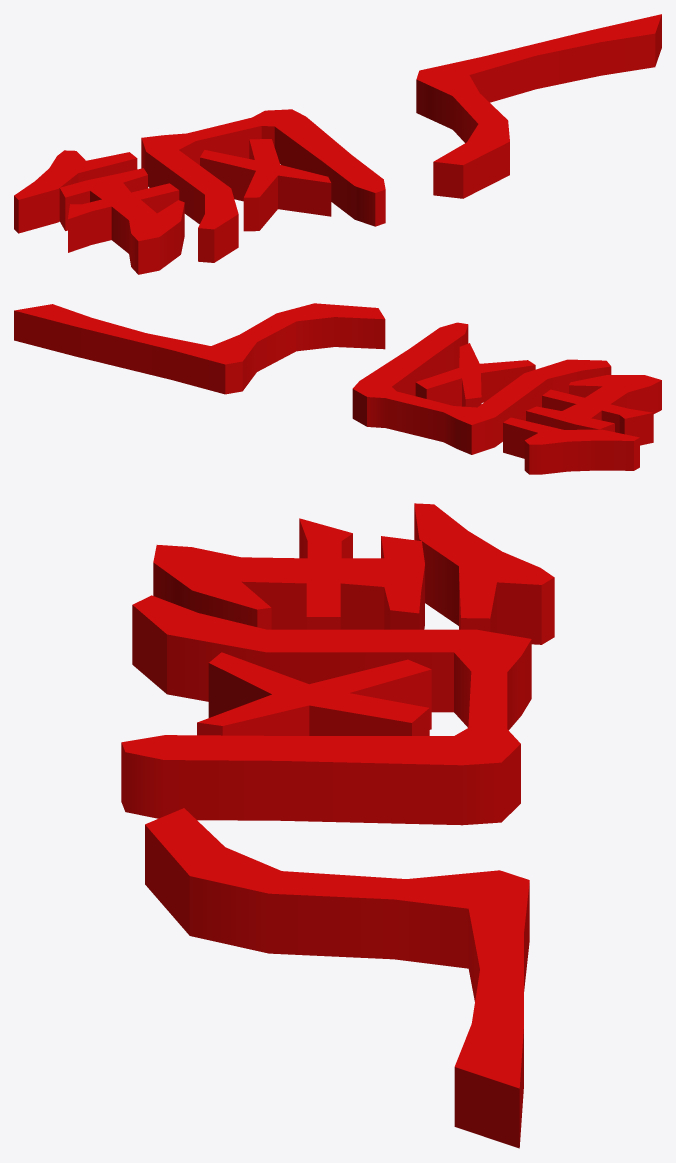
Rendered from Factory_Characters.fbx.
3 renders of one model, top to bottom at view 1: azimuth 30°, elevation 25°; view 2: azimuth 150°, elevation 25°; view 3: azimuth 270°, elevation 25°, orthographic. The views are drawn at different scales.
Parts seen in each view (by area): view 1: polySurface4, polySurface3; view 2: polySurface4, polySurface3; view 3: polySurface4, polySurface3.
Part boxes in pixels (x1,y1,x2,y2): polySurface4: (14,109,385,274); polySurface3: (416,14,661,198); polySurface4: (352,322,661,474); polySurface3: (14,303,385,394); polySurface4: (121,503,554,825); polySurface3: (145,808,529,1148).
Size of the model in its own units: 21.13 by 1.01 by 6.61.
